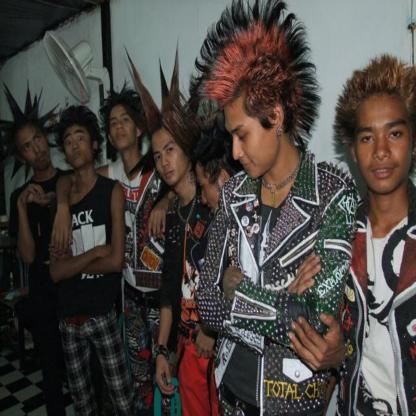face: (355, 93, 412, 193), (226, 97, 278, 180), (196, 166, 236, 218), (153, 132, 188, 187), (21, 129, 52, 172), (63, 128, 92, 169), (109, 111, 138, 151)
